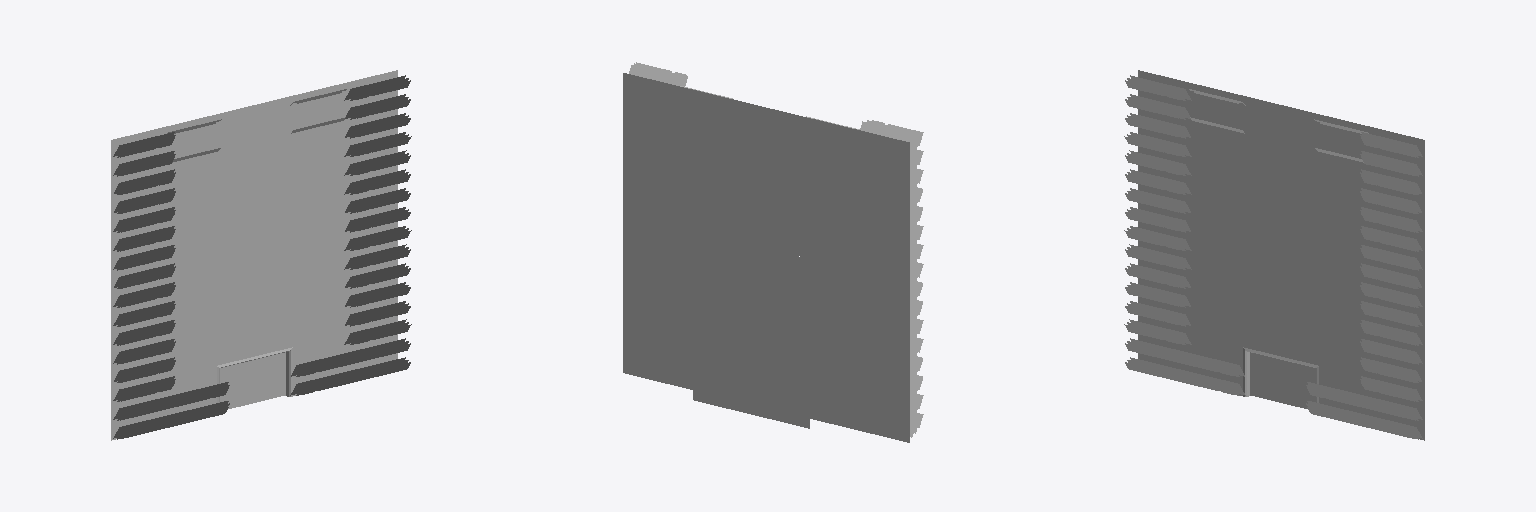
File: Plat_full_02_21.obj
The picture shows the model from 3 angles: view 1: azimuth 30°, elevation 25°; view 2: azimuth 150°, elevation 25°; view 3: azimuth 330°, elevation 25°; orthographic projection.
Visible parts, largest first — view 1: map; view 2: map; view 3: map.
Boxes of the visible parts, x1,y1,x2,y2 form: map: [111, 70, 411, 440]; map: [623, 62, 923, 442]; map: [1124, 70, 1424, 440].
Size of the model in its own units: 32 by 32.12 by 4.64.